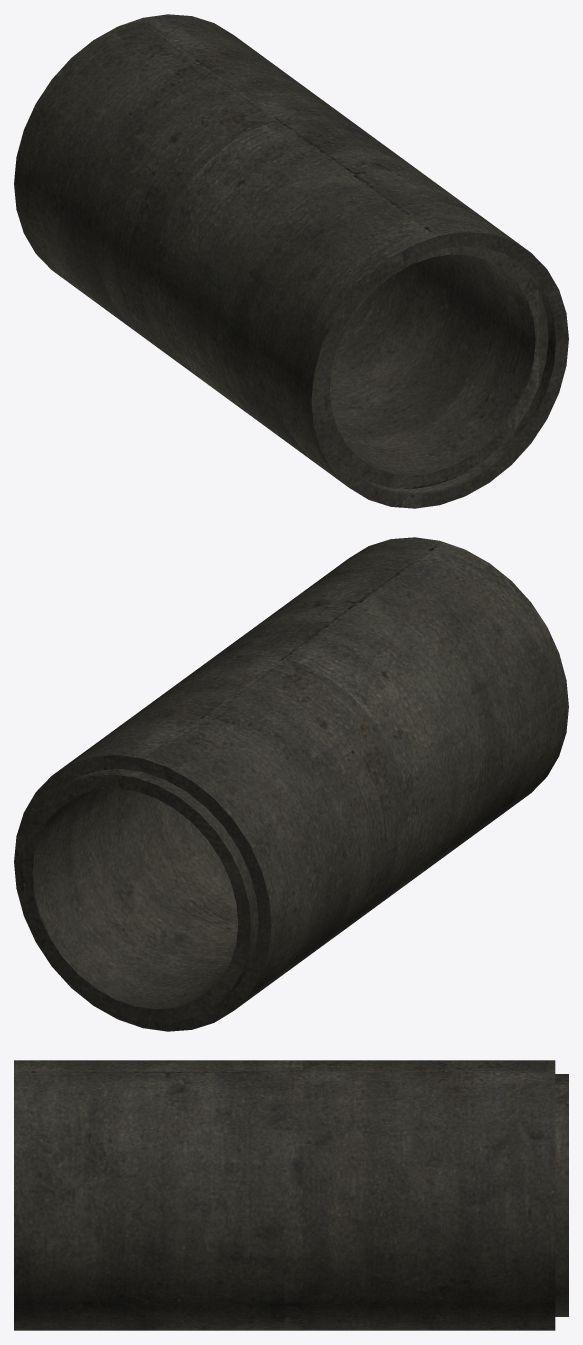
The model's file is concrete_pipe_hm_1_middle.obj.
The picture shows the model from 3 angles, top to bottom: view 1: azimuth 30°, elevation 25°; view 2: azimuth 150°, elevation 25°; view 3: azimuth 270°, elevation 25°; orthographic projection. The views are drawn at different scales.
Parts seen in each view (by area): view 1: concrete_pipe_hm_1_middle; view 2: concrete_pipe_hm_1_middle; view 3: concrete_pipe_hm_1_middle.
Part boxes in pixels (x1,y1,x2,y2): concrete_pipe_hm_1_middle: (14,14,568,508); concrete_pipe_hm_1_middle: (14,537,568,1031); concrete_pipe_hm_1_middle: (14,1060,568,1330).
Bounding box in the file's own units: 2 × 2 × 4.1.
